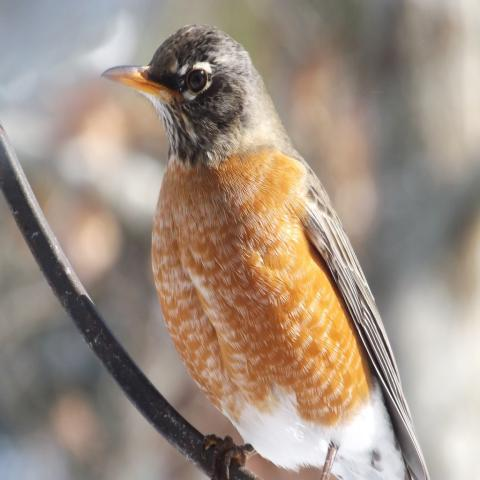bird: (98, 22, 431, 478)
